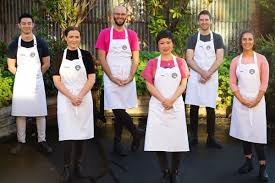Bad: (95, 6, 189, 182), (52, 6, 139, 179), (6, 13, 96, 179), (142, 10, 223, 183), (187, 10, 269, 180)
